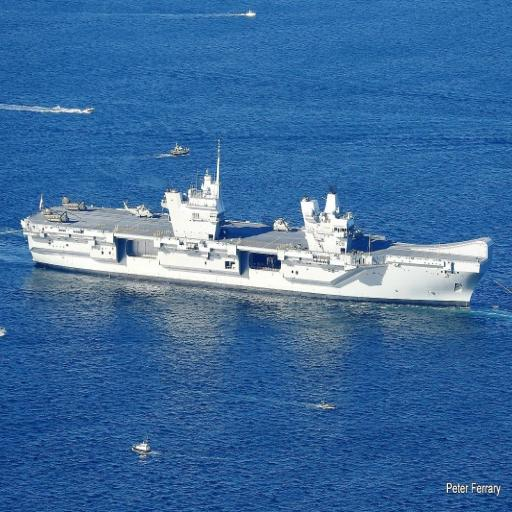Portanaves: (20, 132, 497, 317)
